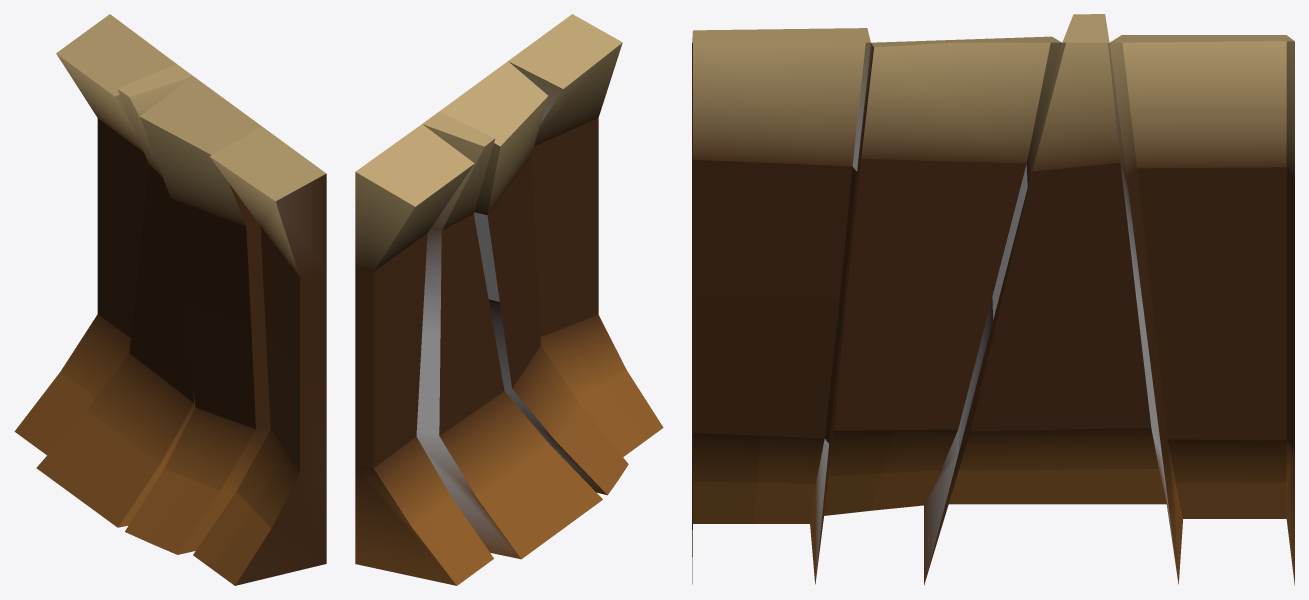
Rendered from DesertWall.fbx.
3 renders of one model, left to right at view 1: azimuth 30°, elevation 25°; view 2: azimuth 150°, elevation 25°; view 3: azimuth 270°, elevation 25°, orthographic. The views are drawn at different scales.
Parts seen in each view (by area): view 1: Cube.004; view 2: Cube.004; view 3: Cube.004.
Part boxes in pixels (<box>): Cube.004: <box>14,14,326,585</box>; Cube.004: <box>355,14,663,585</box>; Cube.004: <box>692,14,1294,585</box>.
Size of the model in its own units: 63.87 by 199 by 200.
